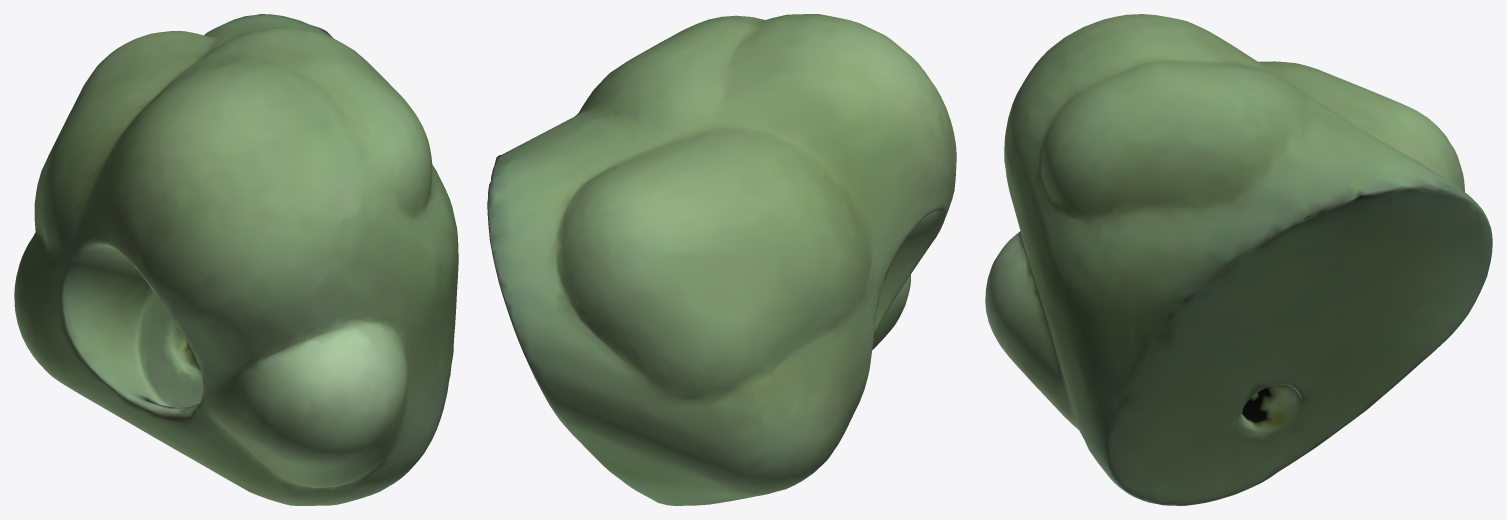
The model's file is textured_simplified.obj.
3 views of the same model, side by side, from view 1: azimuth 30°, elevation 25°; view 2: azimuth 150°, elevation 25°; view 3: azimuth 270°, elevation 25° (orthographic). The views are drawn at different scales.
Size of the model in its own units: 0.0718 by 0.0935 by 0.0994.
